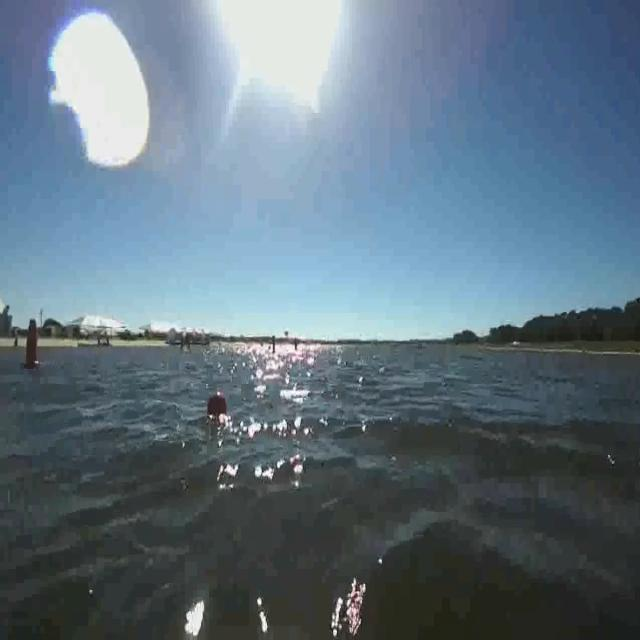red-buoy: (206, 388, 227, 421)
red-column-buoy: (22, 319, 42, 373)
